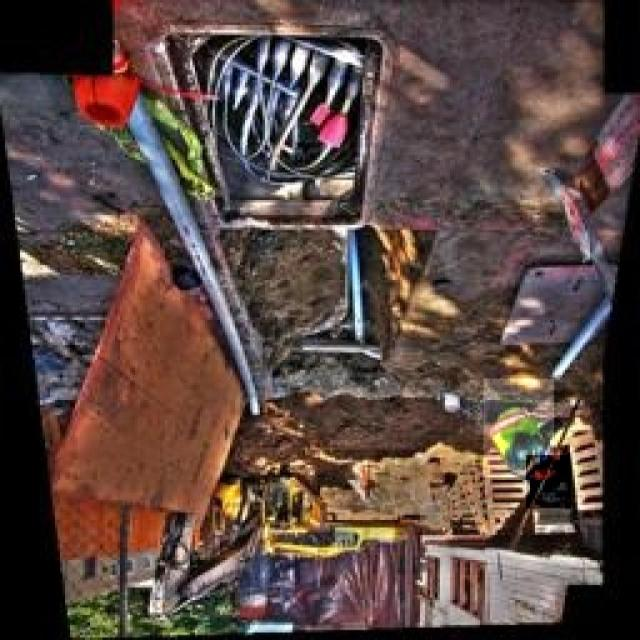Helmet: (526, 455, 571, 509)
Safety Vest: (484, 379, 554, 477)
